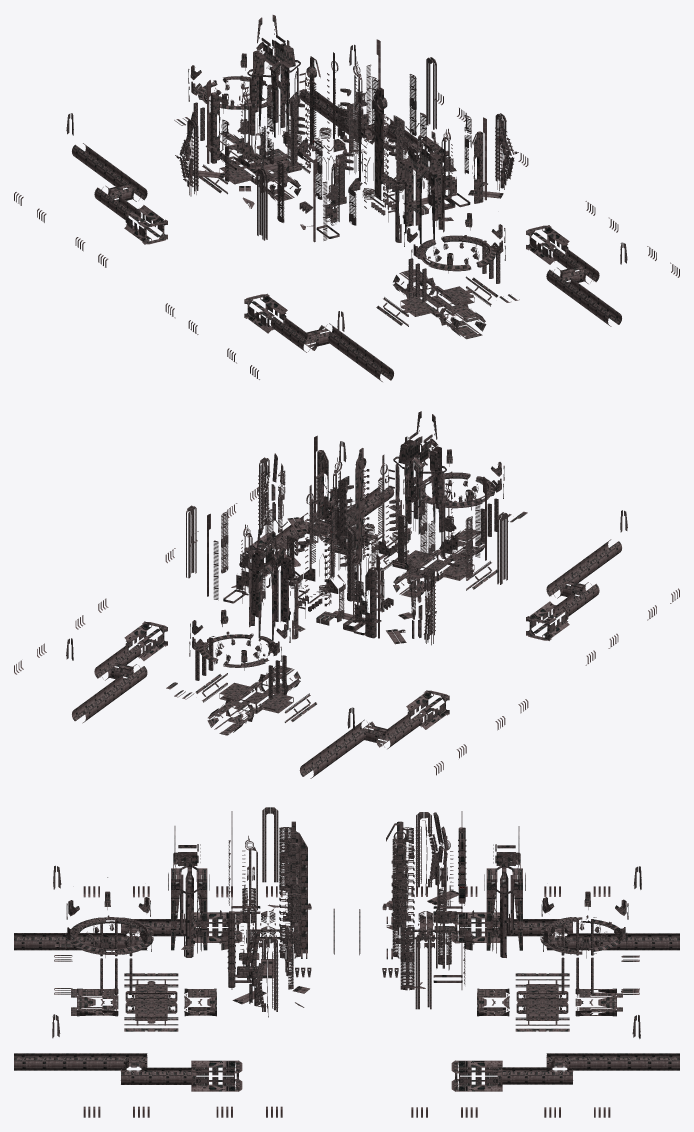
3 views of the same model, one above another, from view 1: azimuth 30°, elevation 25°; view 2: azimuth 150°, elevation 25°; view 3: azimuth 270°, elevation 25° (orthographic). The views are drawn at different scales.
Visible parts, largest first — view 1: _gltfNode_13.001; view 2: _gltfNode_13.001; view 3: _gltfNode_13.001.
Part boxes in pixels (x1,y1,x2,y2): _gltfNode_13.001: (14,15,679,381); _gltfNode_13.001: (14,411,679,778); _gltfNode_13.001: (14,807,679,1117).
Bounding box in the file's own units: 9.19 × 3.56 × 11.62.
Materials: 1 (1 with a texture image).
